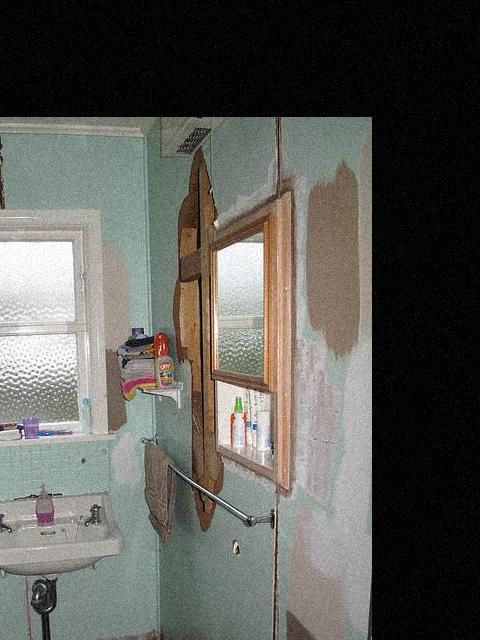Lavamanos: (0, 487, 118, 560)
